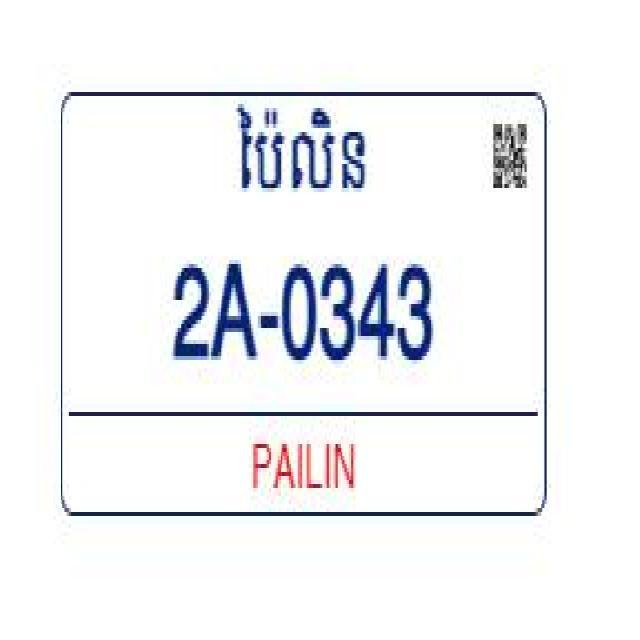Pailin: (233, 96, 368, 204)
